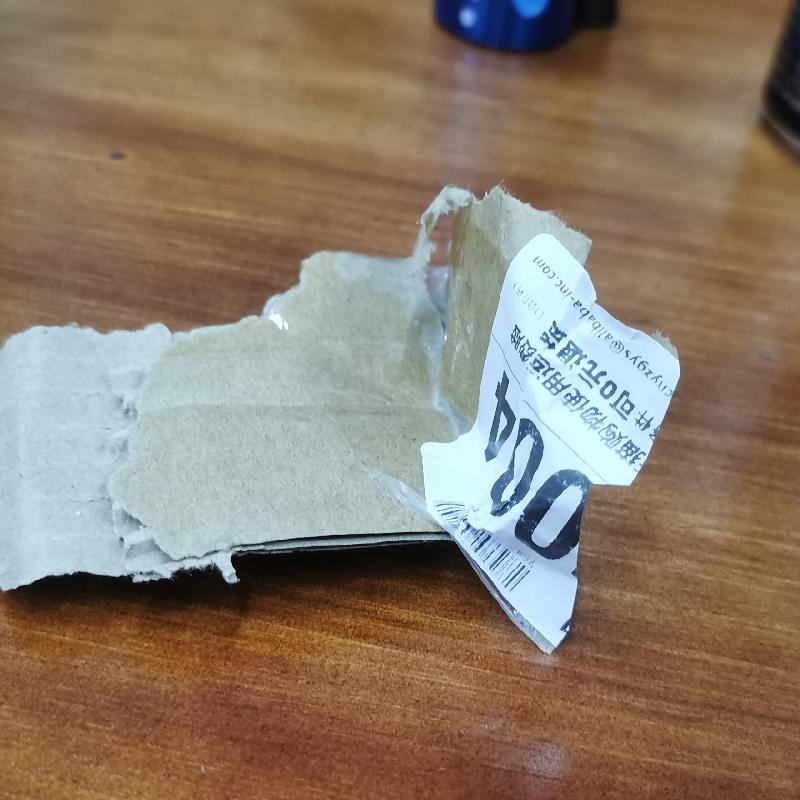boxes: (15, 186, 678, 651)
